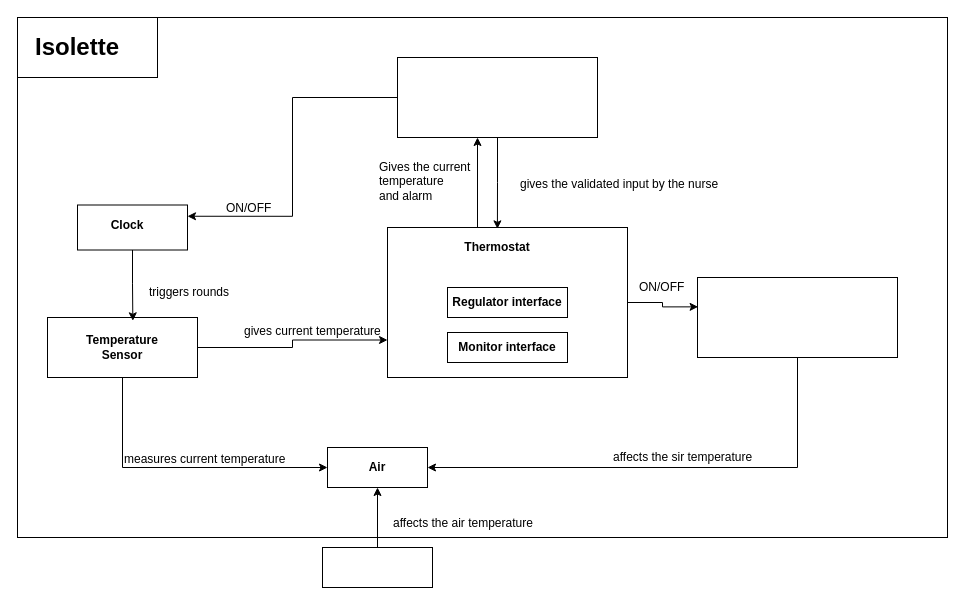
The diagram is 965 pixels wide and 605 high, and some of its shapes have lost their labels. The shapes that lost their labels are listed below. From the top down, each one's centre as x and y in pixels, then its label:
At (497,97): "Display".
At (797,317): "Heat Source".
At (377,567): "Baby".
